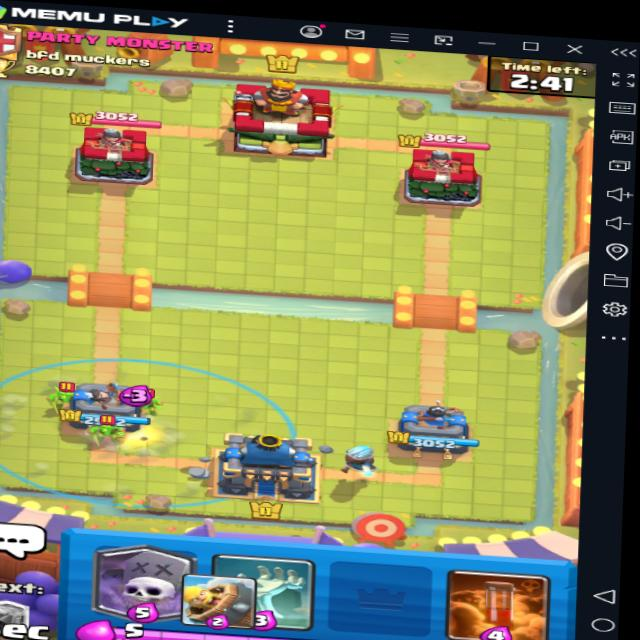goblin: (89, 409, 129, 448), (45, 378, 81, 408), (124, 385, 158, 413)
